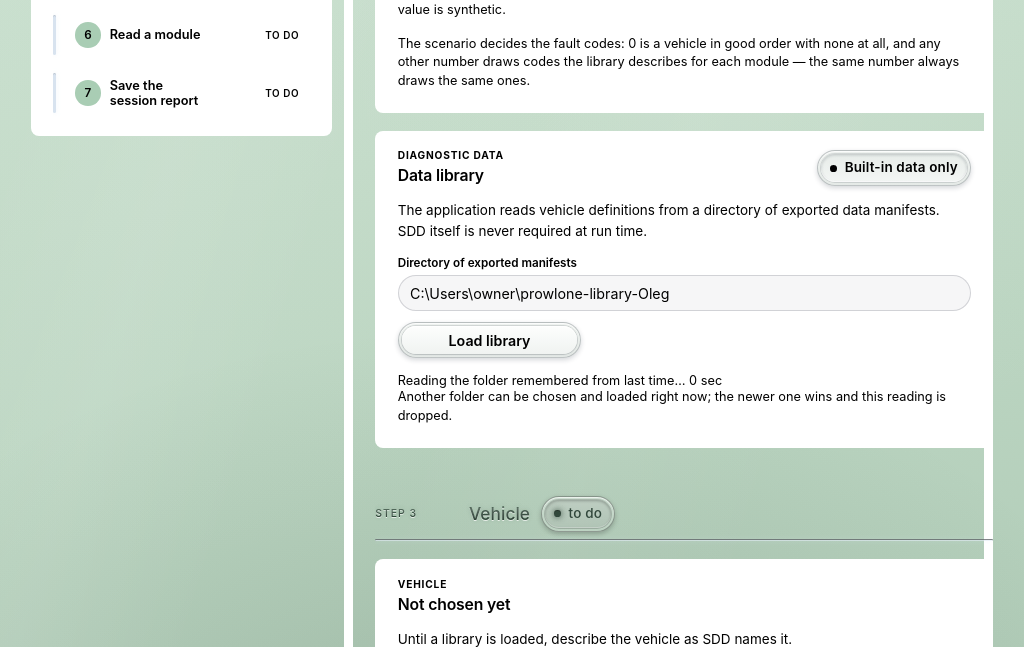
Test: the library folder between launches › is overtaken by a folder chosen while it is still being read
(page scrolled)
Expected: the button "Load library" is enabled, [398,322,581,358]
Replace the text in the field showing "C:\\Users\\owner\\prowlone-library-Oleg" with "C:\\Users\\owner\\prowlone-library-Oleg-16" at (684, 293), box [398,275,971,311]
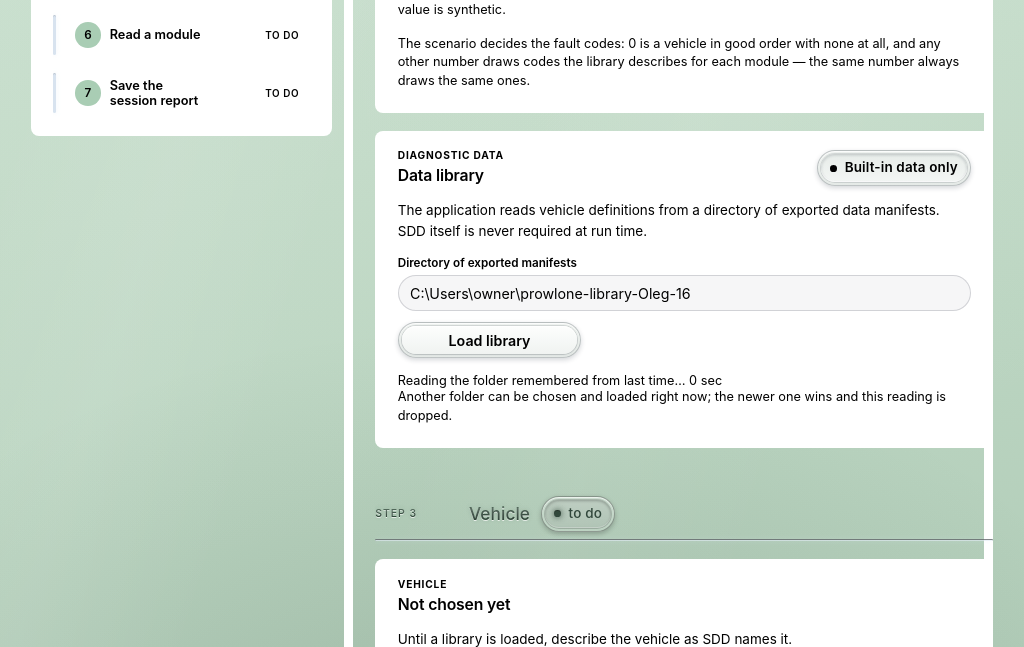
Click the button "Load library" at (489, 340), box [398,322,581,358]
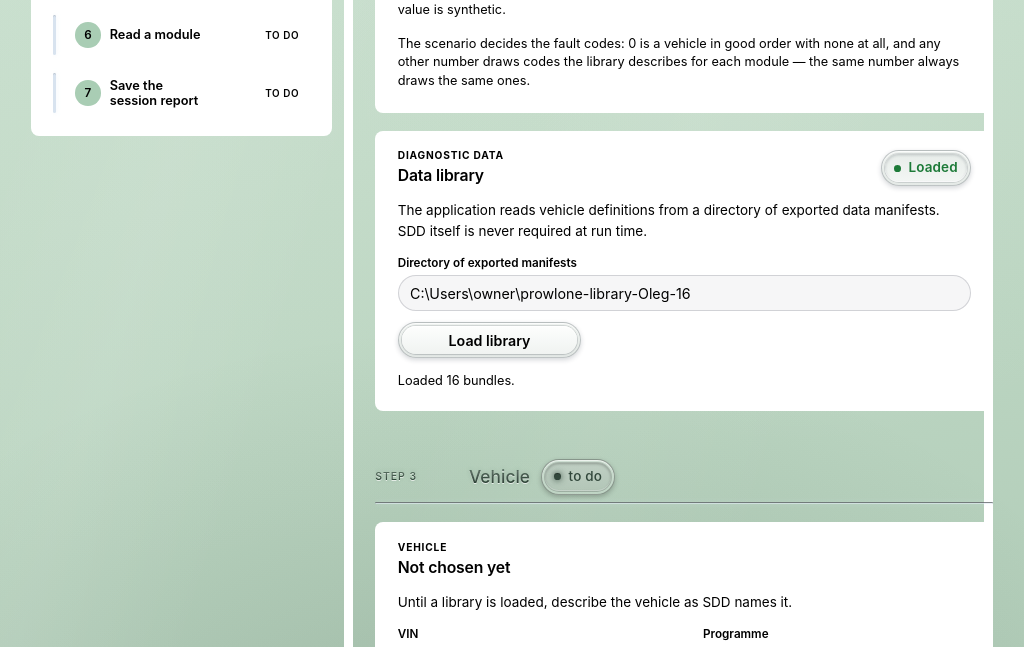
Result: the text "Loaded 16 bundles." is shown at [398,373,515,388]
